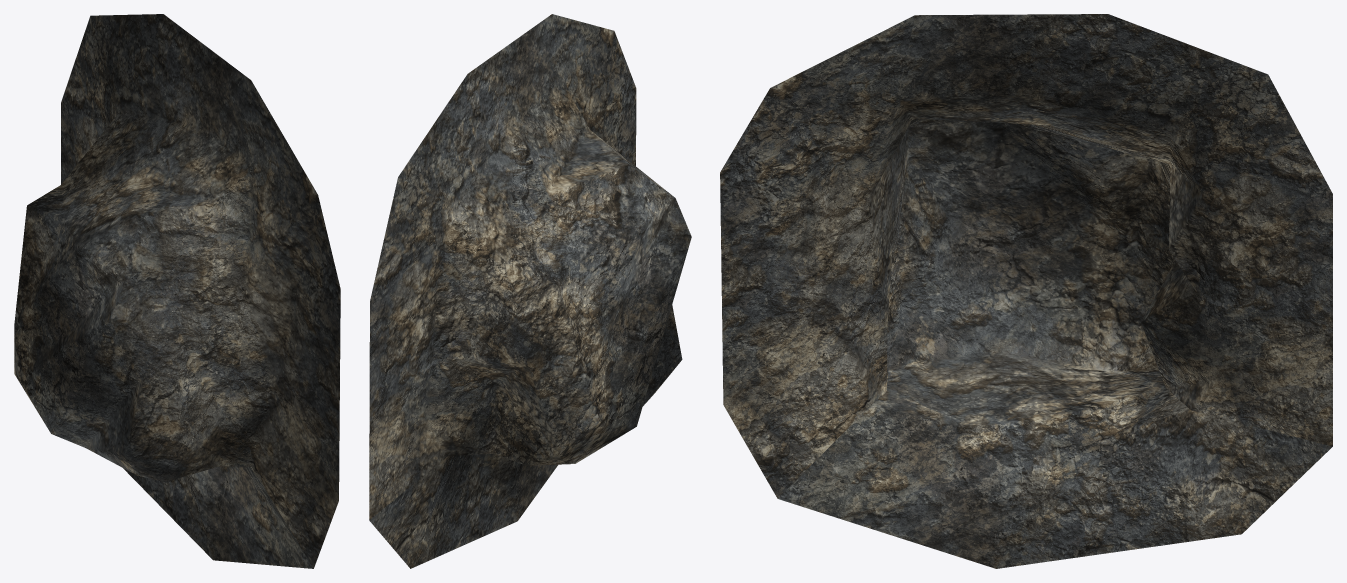
The model's file is Module20_LOD1.fbx.
3 renders of one model, left to right at view 1: azimuth 30°, elevation 25°; view 2: azimuth 150°, elevation 25°; view 3: azimuth 270°, elevation 25°, orthographic. The views are drawn at different scales.
Parts seen in each view (by area): view 1: cave_el20_250_Group40188; view 2: cave_el20_250_Group40188; view 3: cave_el20_250_Group40188.
Part boxes in pixels (x1,y1,x2,y2): cave_el20_250_Group40188: (14,14,340,568); cave_el20_250_Group40188: (369,14,691,568); cave_el20_250_Group40188: (720,14,1332,568).
Bounding box in the file's own units: 2.55 × 8.47 × 8.46.
